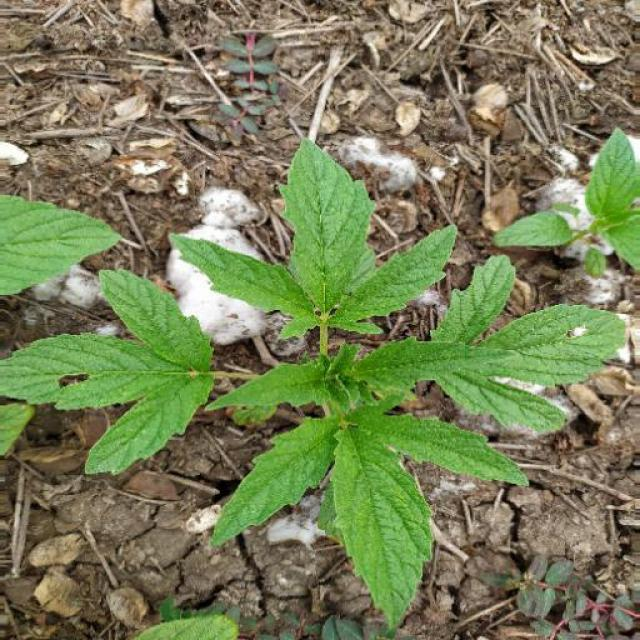crop: (38, 150, 632, 619)
